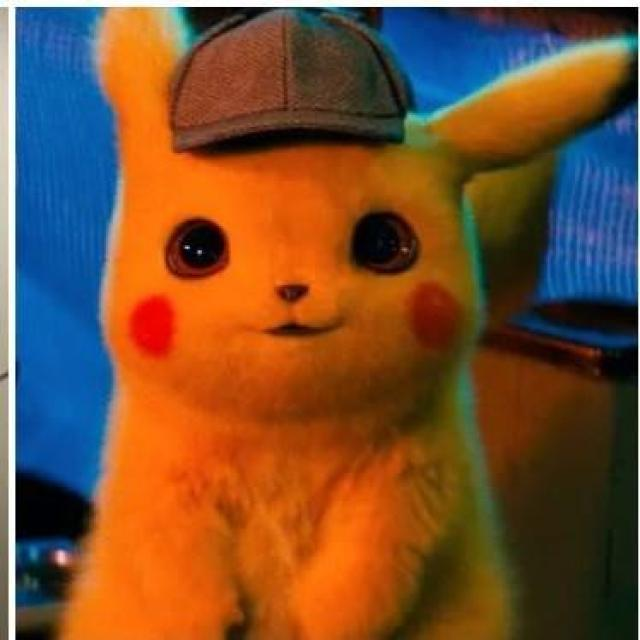pikachu: (63, 8, 636, 638)
